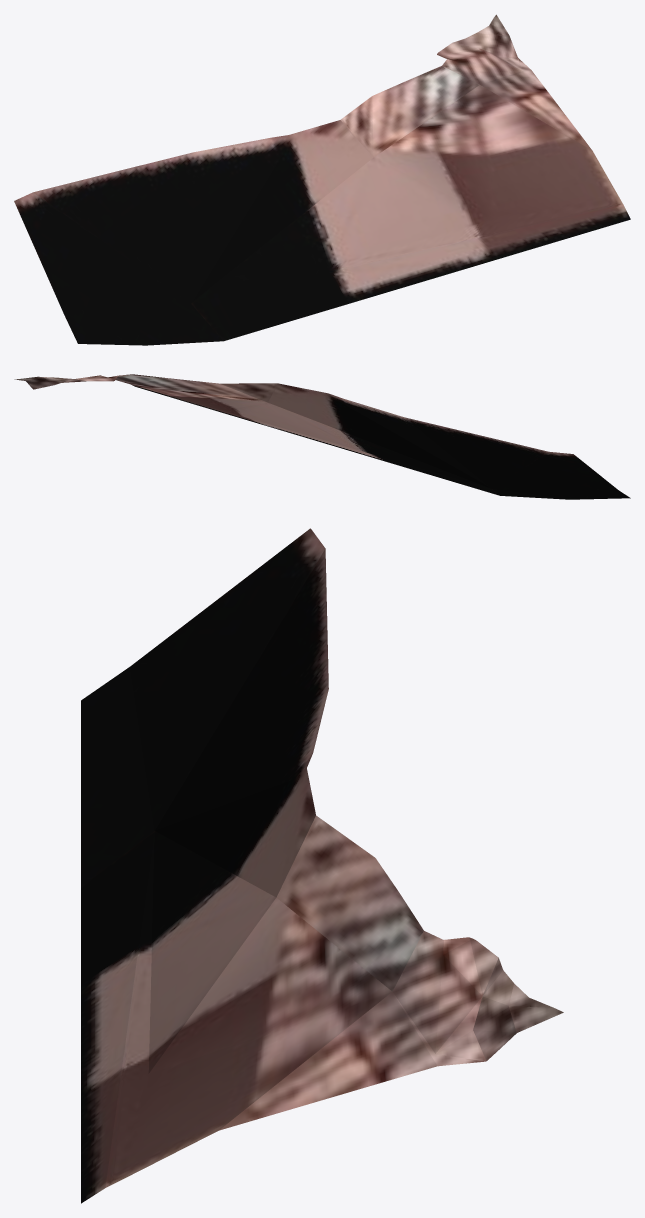
3 renders of one model, top to bottom at view 1: azimuth 30°, elevation 25°; view 2: azimuth 150°, elevation 25°; view 3: azimuth 270°, elevation 25°, orthographic. The views are drawn at different scales.
Bounding box in the file's own units: 3.35 × 0.7465 × 1.41.
Materials: 1 (1 with a texture image).
